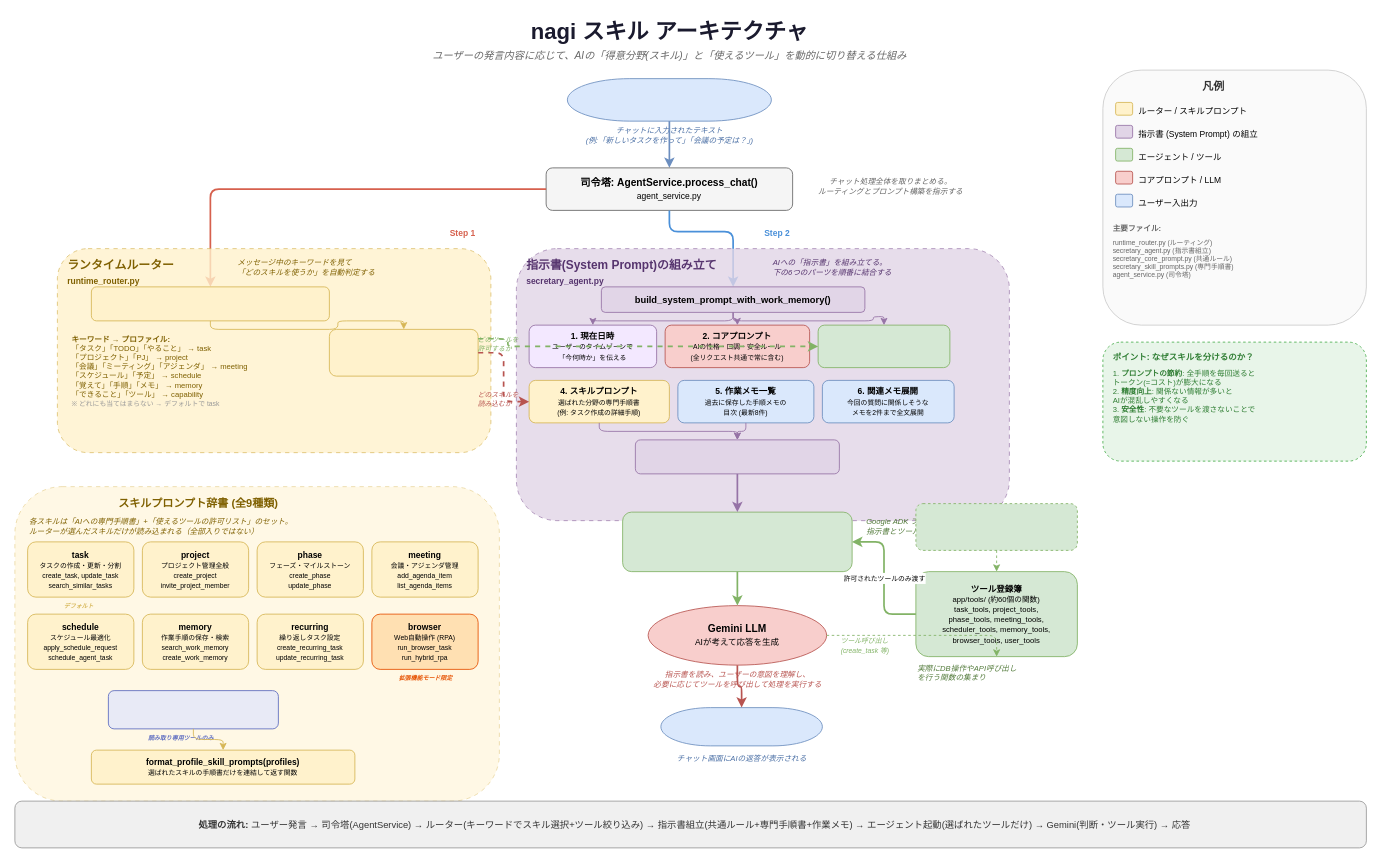
The diagram is 1381 pixels wide and 863 high, and some of its shapes have lost their labels. The shapes that lost their labels are listed below. From the top down, each one's box as (x1, y1, x2, y2) in pixels, then its label:
(567, 78, 771, 121): ユーザーのメッセージ
(91, 286, 329, 321): build_secretary_runtime_routing() キーワードのスコアリングでプロファイルを選択
(329, 329, 478, 376): ルーターの出力 profiles: 選ばれたスキル名 tool_names: 使えるツール一覧
(817, 324, 950, 368): 3. ツール一覧 今回使えるツールの名前と 日本語の使い方ガイド
(635, 439, 839, 474): 完成した指示書 (System Prompt) 上の1~6を全て結合した文字列
(622, 511, 852, 572): ADK エージェント Agent(name="secretary", instruction=指示書, tools=許可ツール)
(915, 503, 1077, 550): _PROFILE_TOOL_NAMES スキルごとの「ツール許可リスト」 (使って良いツール名のセット)
(108, 690, 278, 729): capability 「何ができる？」に回答 list_*, get_*, search_* のみ
(660, 707, 822, 746): ユーザーへの応答
